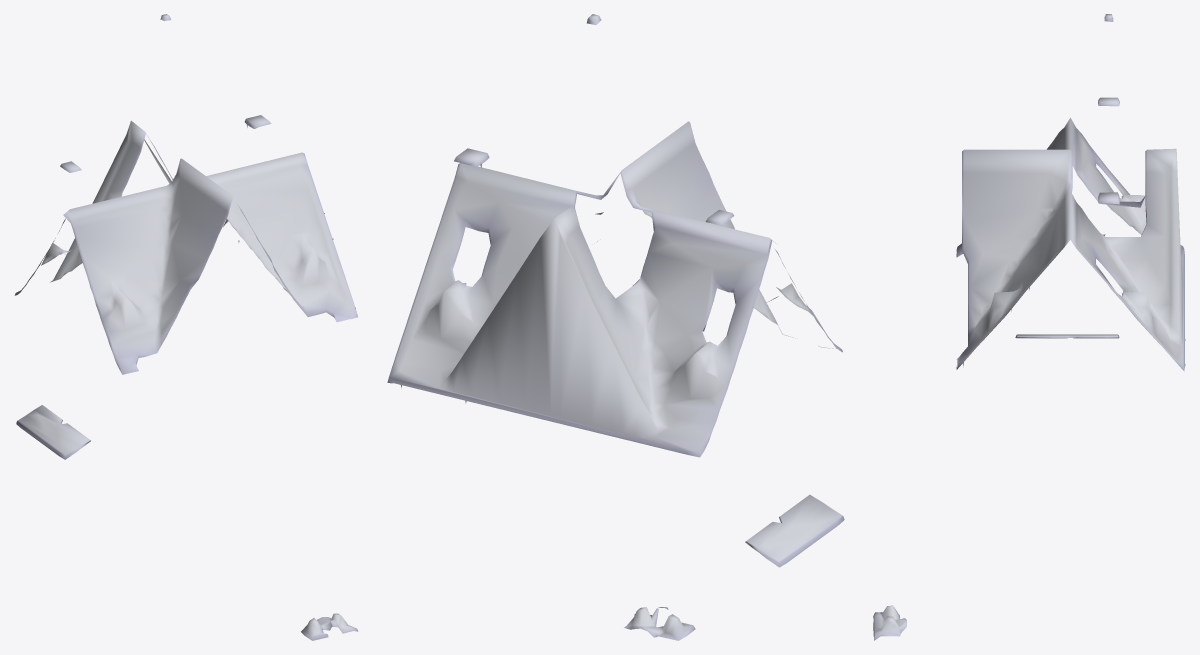
Rendered from category.dex.l.snow.glb.
3 renders of one model, left to right at view 1: azimuth 30°, elevation 25°; view 2: azimuth 150°, elevation 25°; view 3: azimuth 270°, elevation 25°, orthographic. The views are drawn at different scales.
Visible parts, largest first — view 1: snow, tier.4; view 2: snow, tier.4; view 3: snow, tier.4.
Boxes of the visible parts, x1,y1,x2,y2 form: snow: [14, 115, 358, 640]; tier.4: [16, 405, 90, 459]; snow: [387, 121, 842, 640]; tier.4: [745, 494, 844, 567]; snow: [873, 97, 1185, 640]; tier.4: [1015, 334, 1119, 338].
Size of the model in its own units: 9.32 by 18.54 by 8.98.
